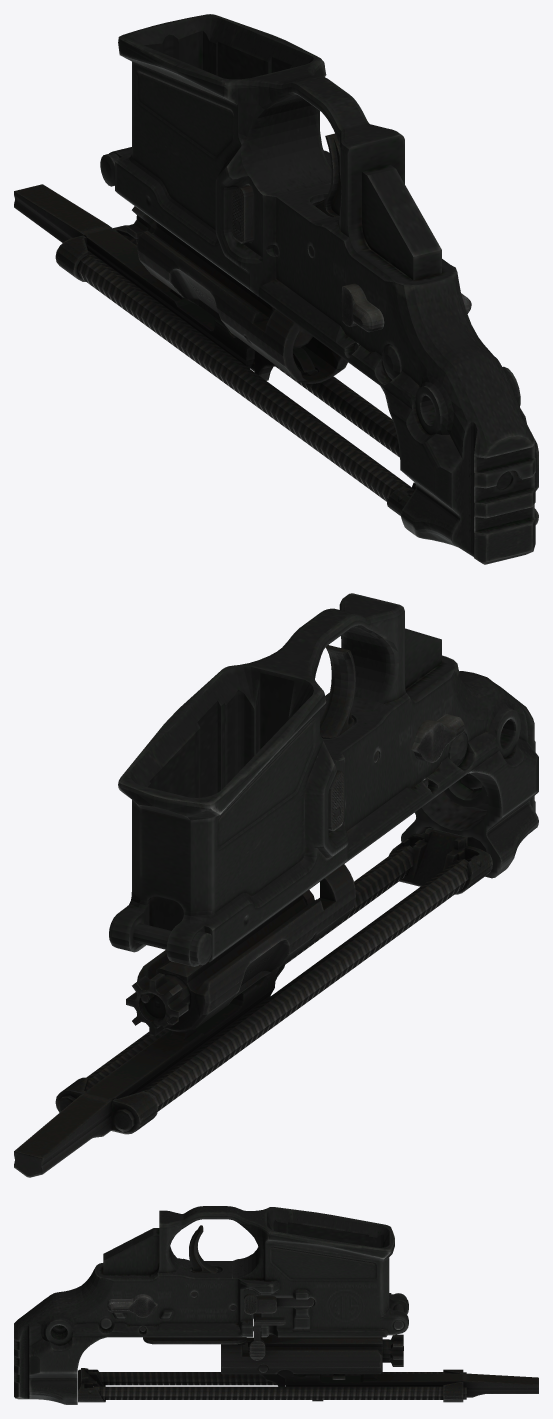
3 views of the same model, one above another, from view 1: azimuth 30°, elevation 25°; view 2: azimuth 150°, elevation 25°; view 3: azimuth 270°, elevation 25° (orthographic). The views are drawn at different scales.
Parts seen in each view (by area): view 1: TW_5fbcc1d9016cce60e8341ab3_PZ_Import; view 2: TW_5fbcc1d9016cce60e8341ab3_PZ_Import; view 3: TW_5fbcc1d9016cce60e8341ab3_PZ_Import.
Boxes of the visible parts, x1=… form: TW_5fbcc1d9016cce60e8341ab3_PZ_Import: x1=14, y1=14, x2=538, y2=564; TW_5fbcc1d9016cce60e8341ab3_PZ_Import: x1=14, y1=593, x2=538, y2=1177; TW_5fbcc1d9016cce60e8341ab3_PZ_Import: x1=14, y1=1206, x2=538, y2=1404.
Bounding box in the file's own units: 0.0232 × 0.1679 × 0.0665.
Materials: 1 (1 with a texture image).
